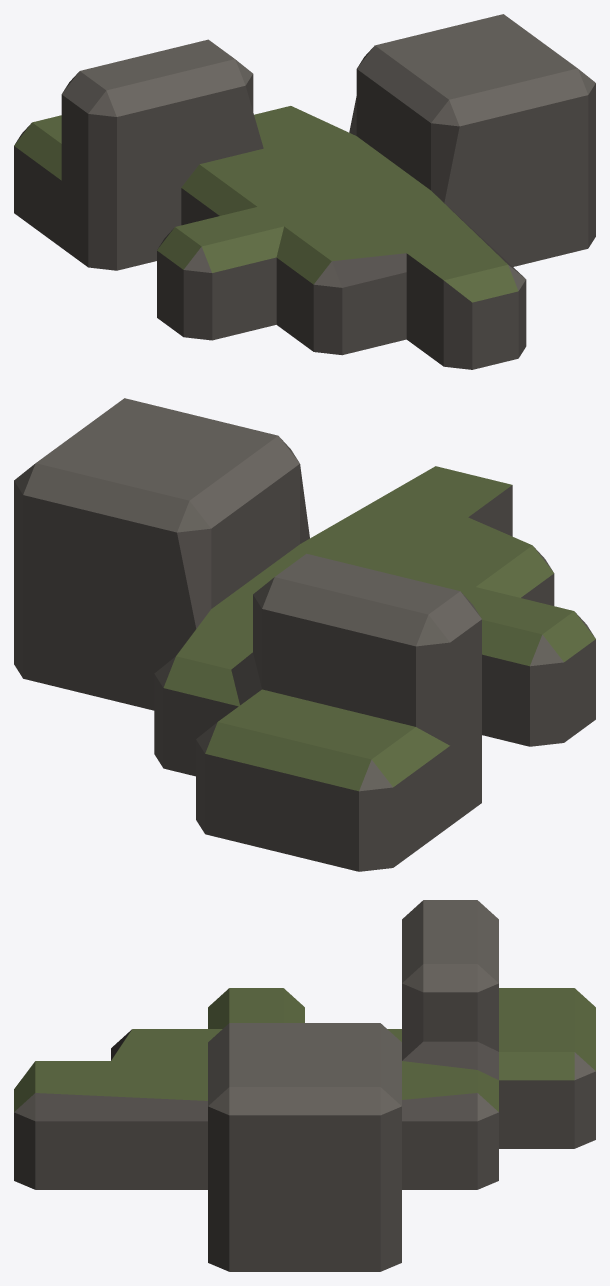
The model's file is stone_debris_flat_patch.glb.
3 views of the same model, one above another, from view 1: azimuth 30°, elevation 25°; view 2: azimuth 150°, elevation 25°; view 3: azimuth 270°, elevation 25° (orthographic). The views are drawn at different scales.
Parts seen in each view (by area): view 1: stone_debris_flat_patch; view 2: stone_debris_flat_patch; view 3: stone_debris_flat_patch.
Part boxes in pixels (x1,y1,x2,y2): stone_debris_flat_patch: [14, 14, 595, 369]; stone_debris_flat_patch: [14, 398, 595, 871]; stone_debris_flat_patch: [14, 900, 595, 1271].
Size of the model in its own units: 0.5 by 0.2 by 0.6.
Materials: 1 (1 with a texture image).
